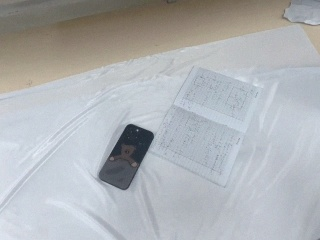phone: (98, 124, 154, 191)
